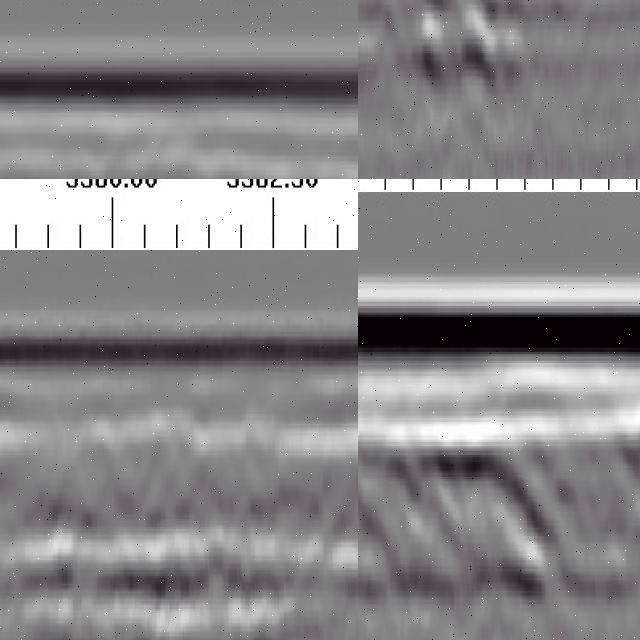crack: (1, 465, 16, 640)
loose: (359, 418, 640, 596), (359, 1, 536, 97)
